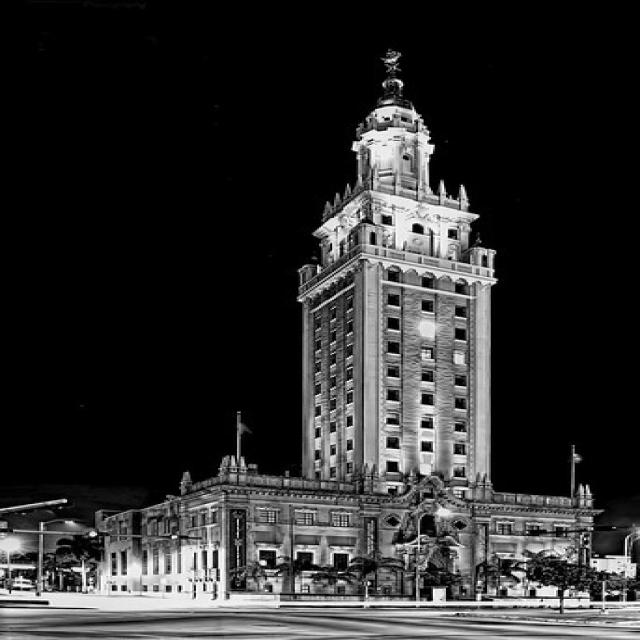building: (289, 87, 502, 576)
